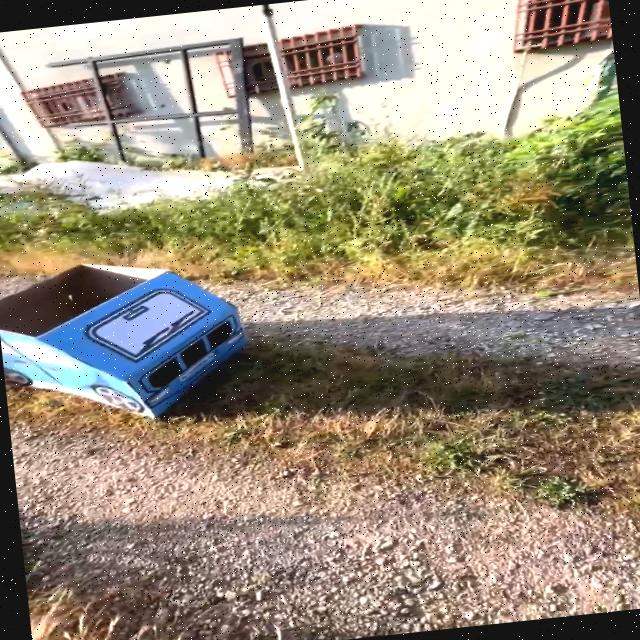blue_car: (0, 221, 274, 467)
